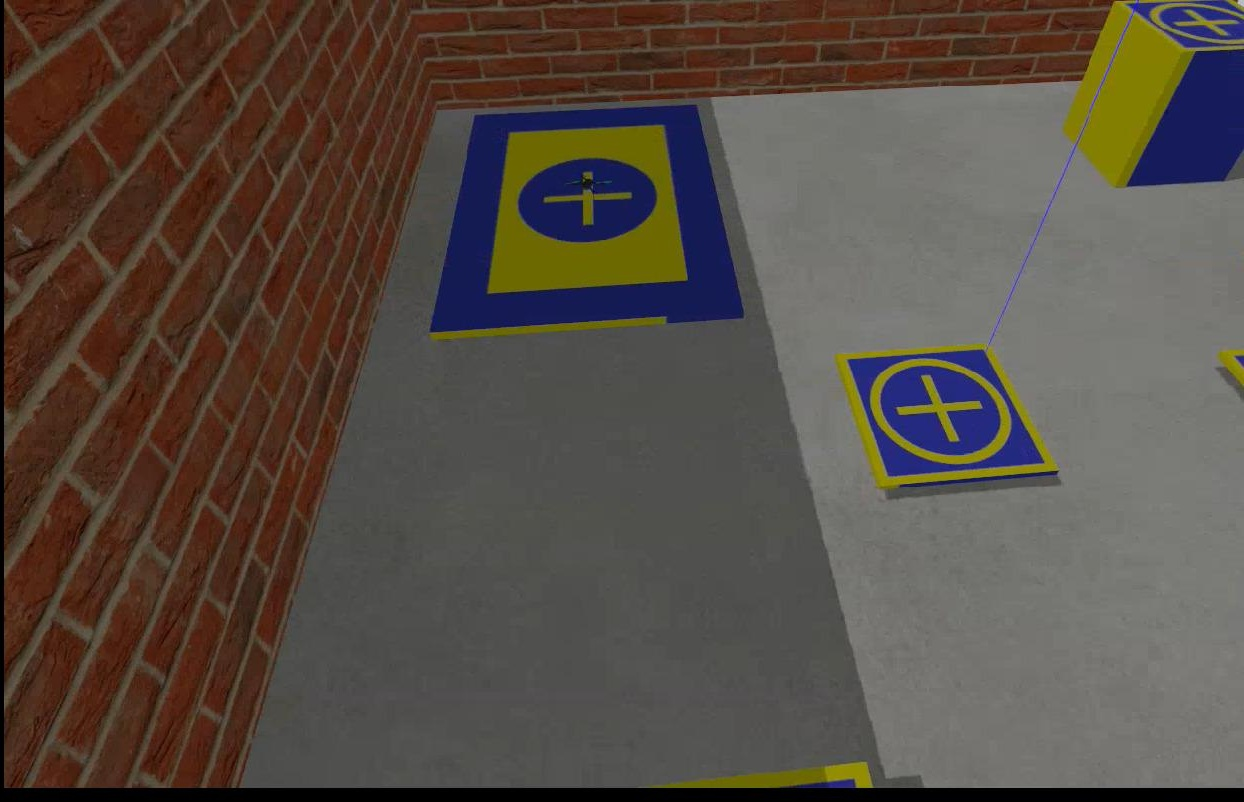large_base: (423, 100, 740, 340)
small_base: (828, 349, 1059, 495), (1110, 1, 1242, 55)
